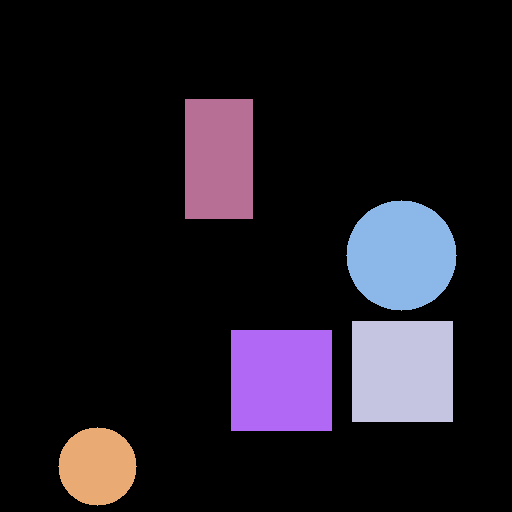circle: (346, 200, 456, 310), (58, 427, 136, 505)
rectangle: (185, 99, 252, 218)
square: (231, 330, 331, 430), (352, 321, 452, 421)
